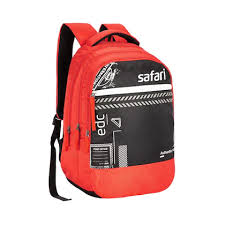backpack: (48, 22, 175, 201)
